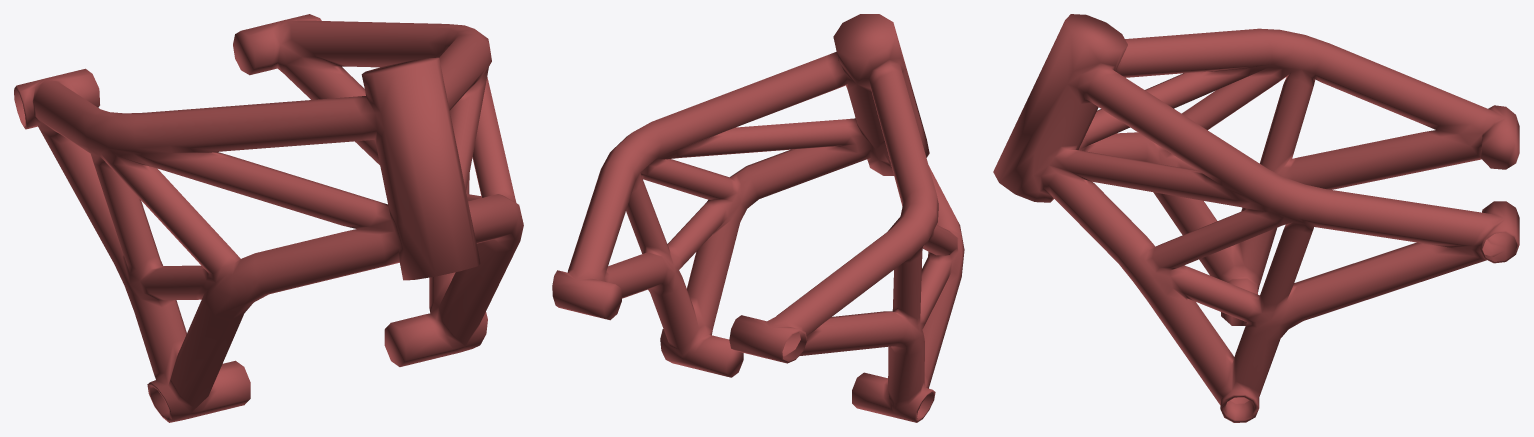
The model's file is RollCage.glb.
The picture shows the model from 3 angles, left to right: view 1: azimuth 30°, elevation 25°; view 2: azimuth 150°, elevation 25°; view 3: azimuth 270°, elevation 25°; orthographic projection. The views are drawn at different scales.
Parts seen in each view (by area): view 1: RollCage; view 2: RollCage; view 3: RollCage.
Part boxes in pixels (x1,y1,x2,y2): RollCage: (14,14,523,422); RollCage: (552,14,964,422); RollCage: (993,14,1519,422).
Size of the model in its own units: 0.382 by 0.3659 by 0.5155.
Materials: 1 (1 with a texture image).
